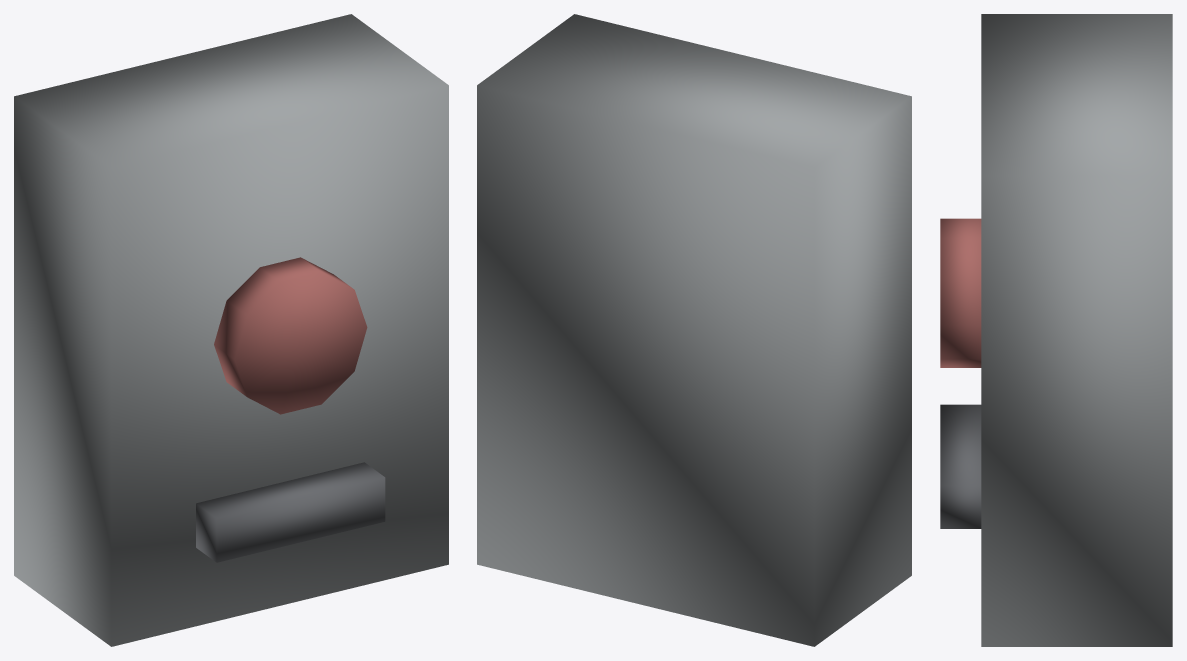
File: paper_towel_station.glb
The picture shows the model from 3 angles, left to right: view 1: azimuth 30°, elevation 25°; view 2: azimuth 150°, elevation 25°; view 3: azimuth 270°, elevation 25°; orthographic projection.
Visible parts, largest first — view 1: world; view 2: world; view 3: world.
Part boxes in pixels (x1=…): world: x1=14, y1=14, x2=448, y2=646; world: x1=477, y1=14, x2=911, y2=646; world: x1=940, y1=14, x2=1172, y2=646.
Size of the model in its own units: 0.28 by 0.38 by 0.17.
